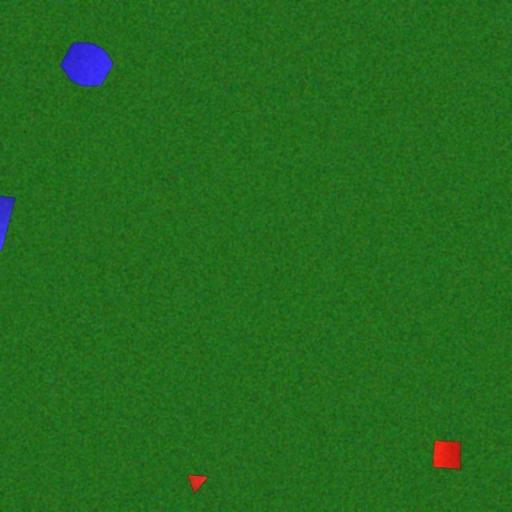RED_SQUARE: (432, 440, 462, 470)
